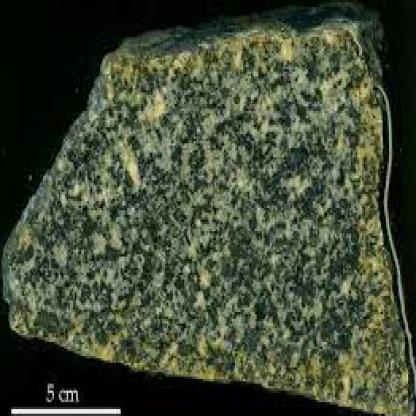Igneous_Diorite: (1, 21, 414, 414)
